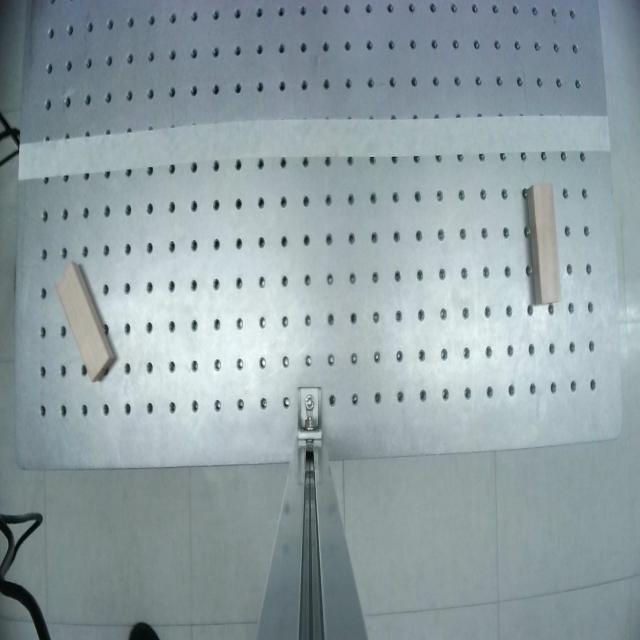wood: (47, 260, 121, 385), (527, 183, 561, 305)
